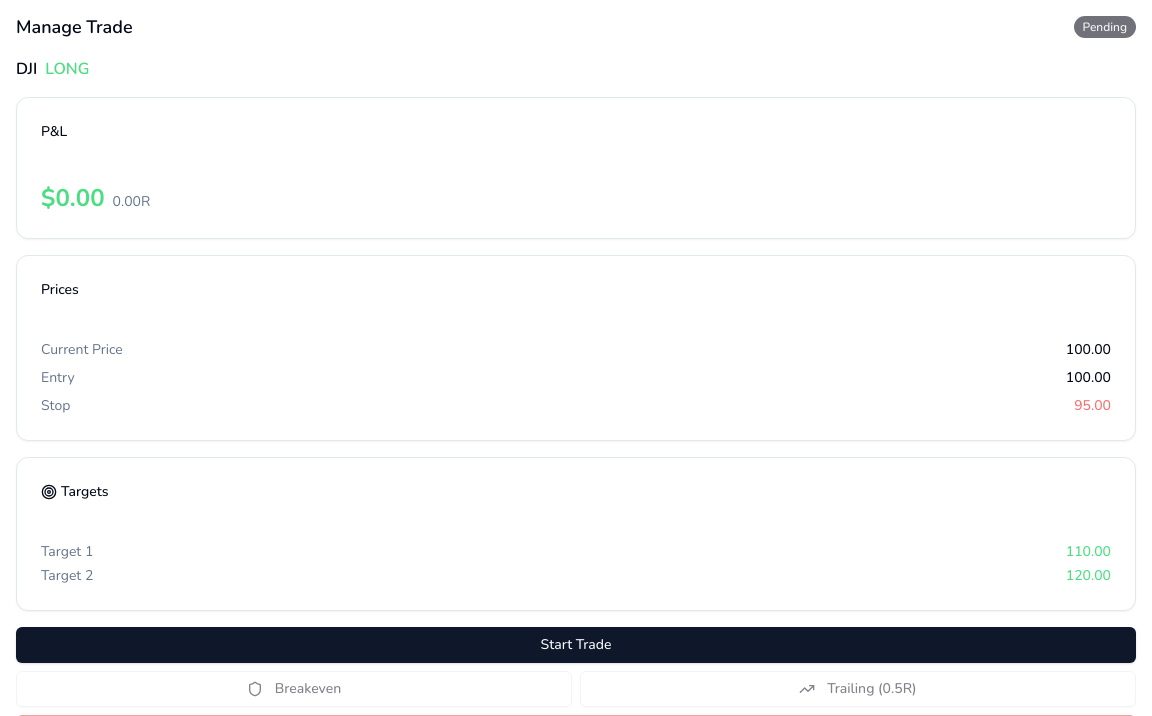
Test: ManagePanel › trade log › should show entry log after activating
Click the button "Start Trade": (576, 645) [16,627,1136,663]
(page scrolled)
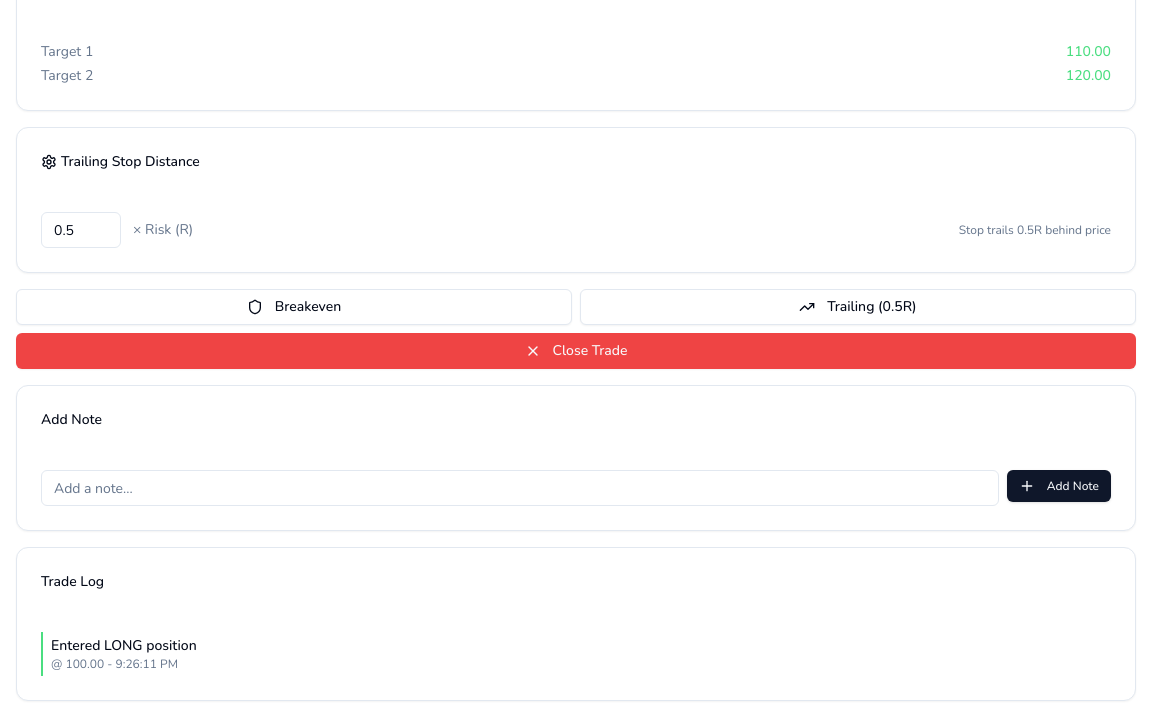
Check: the text "Entered LONG position" is shown, box [51,636,197,655]
